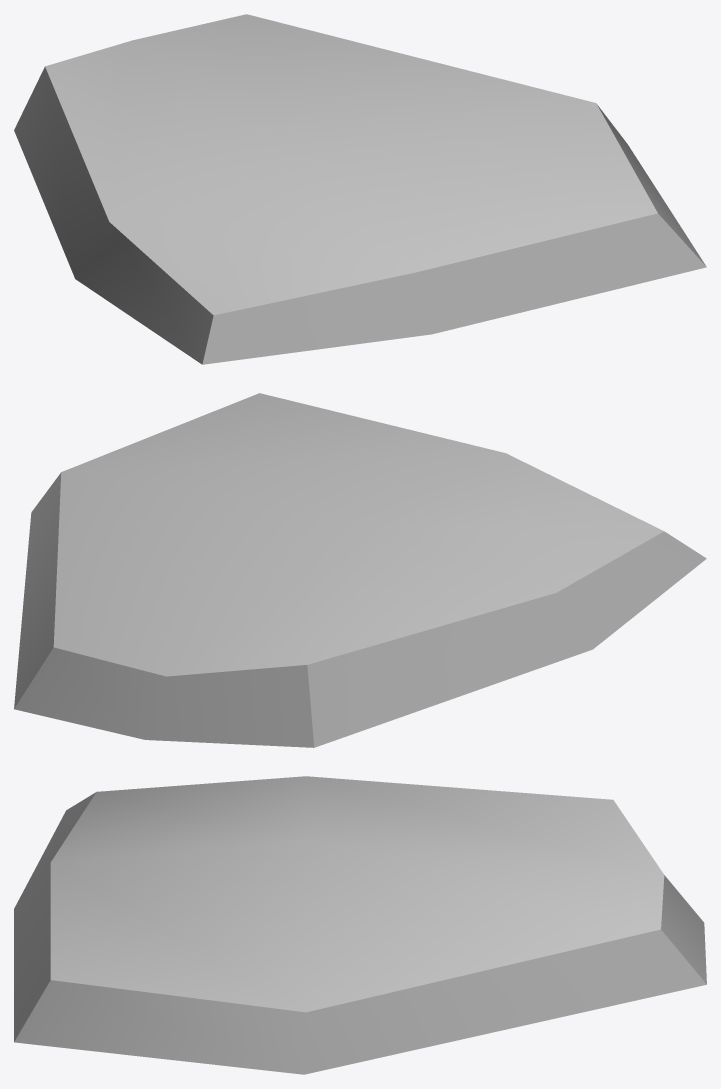
File: stone_05.FBX
3 views of the same model, one above another, from view 1: azimuth 30°, elevation 25°; view 2: azimuth 150°, elevation 25°; view 3: azimuth 270°, elevation 25° (orthographic). The views are drawn at different scales.
Visible parts, largest first — view 1: stone_05; view 2: stone_05; view 3: stone_05.
Part boxes in pixels (x1,y1,x2,y2): stone_05: (14,14,706,364); stone_05: (14,393,706,747); stone_05: (14,776,706,1074).
Bounding box in the file's own units: 0.703 × 0.0853 × 0.7681.
Materials: 1 (1 with a texture image).
